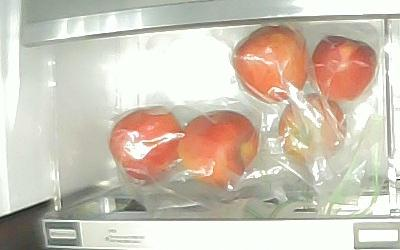apple_vinyl: (178, 111, 258, 190), (233, 25, 311, 104), (108, 105, 182, 182), (279, 94, 347, 161), (311, 36, 377, 101)
